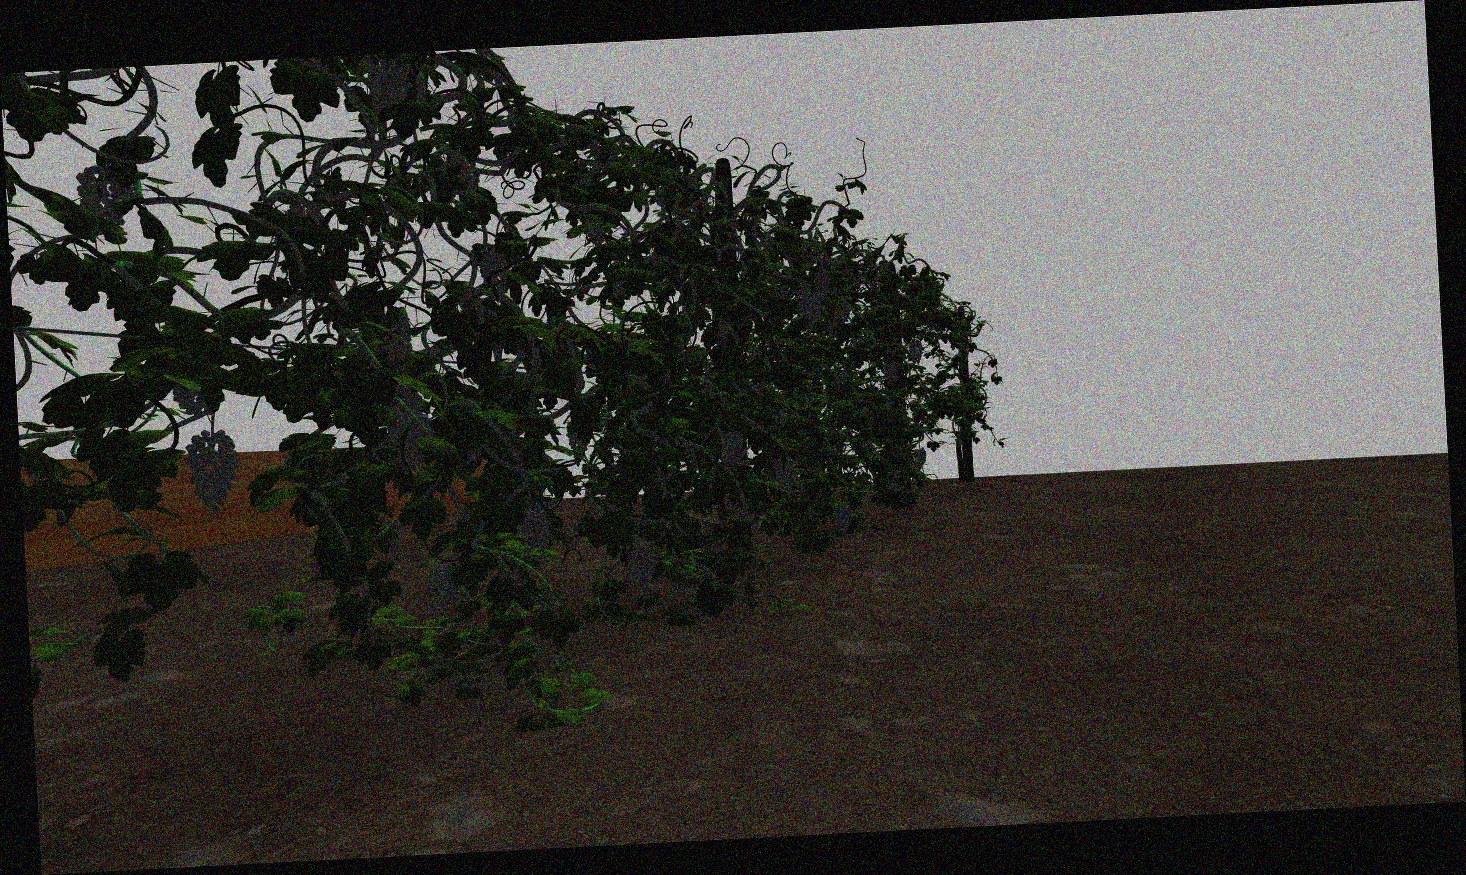grape: (184, 430, 241, 511), (74, 165, 127, 223), (387, 410, 434, 472), (361, 66, 409, 111), (516, 501, 554, 554), (428, 562, 463, 616), (381, 307, 413, 362), (626, 546, 660, 596), (478, 242, 510, 291), (772, 454, 798, 495), (721, 431, 745, 468), (797, 292, 822, 327), (831, 497, 854, 533), (813, 269, 831, 301), (459, 160, 480, 187), (826, 444, 842, 472), (882, 360, 899, 387), (908, 339, 925, 364), (723, 491, 739, 514), (912, 447, 928, 468), (730, 508, 751, 524), (887, 469, 900, 492), (837, 300, 851, 321)
